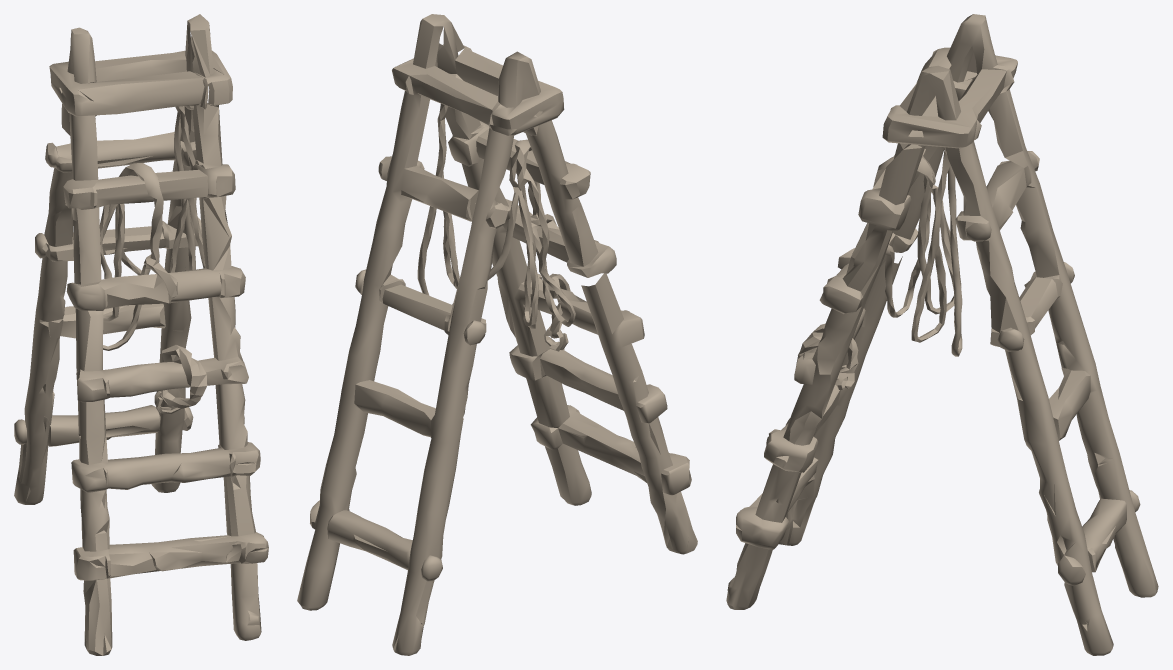
File: kit_ladder.glb
The picture shows the model from 3 angles, left to right: view 1: azimuth 30°, elevation 25°; view 2: azimuth 150°, elevation 25°; view 3: azimuth 270°, elevation 25°; orthographic projection. The views are drawn at different scales.
Parts seen in each view (by area): view 1: ladder; view 2: ladder; view 3: ladder.
Boxes of the visible parts, x1,y1,x2,y2 form: ladder: [14, 14, 268, 655]; ladder: [297, 14, 697, 655]; ladder: [726, 14, 1158, 655].
Bounding box in the file's own units: 1.43 × 3 × 2.1.
